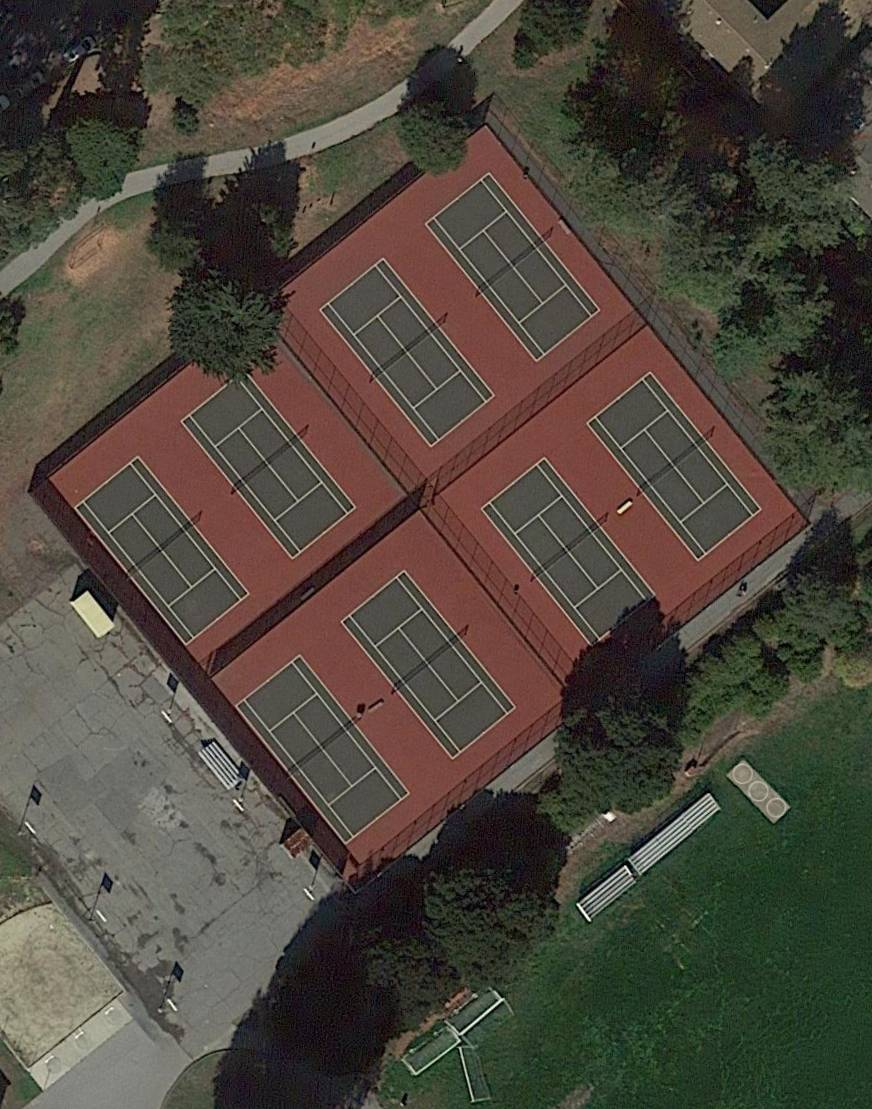tennis court: (180, 368, 357, 561), (319, 258, 497, 449), (340, 568, 517, 760), (426, 171, 603, 363), (236, 653, 412, 846), (587, 370, 763, 563), (481, 457, 657, 649), (74, 456, 250, 647)
